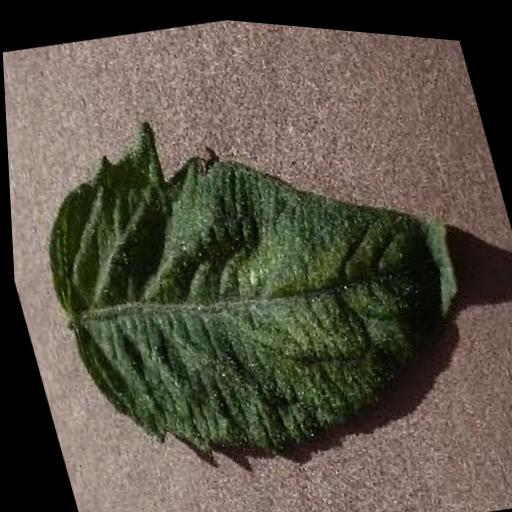Spider Mites: (9, 51, 501, 504)
